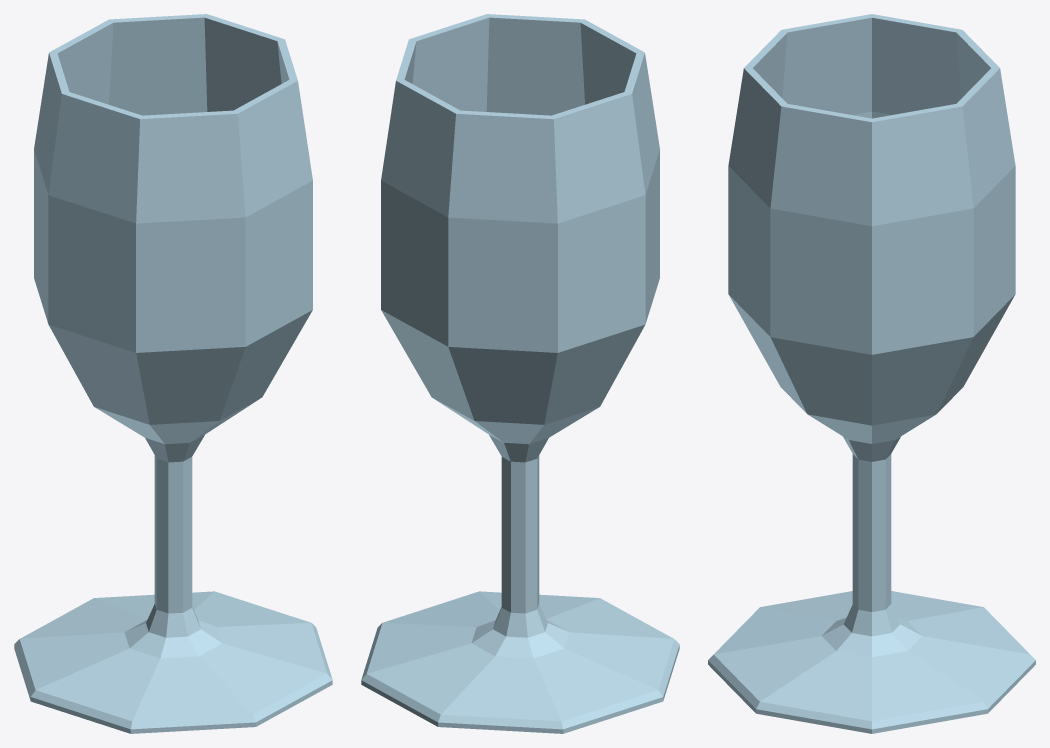
File: WineGlass.fbx
3 renders of one model, left to right at view 1: azimuth 30°, elevation 25°; view 2: azimuth 150°, elevation 25°; view 3: azimuth 270°, elevation 25°, orthographic.
Parts seen in each view (by area): view 1: WineGlass; view 2: WineGlass; view 3: WineGlass.
Boxes of the visible parts, <box> form: WineGlass: <box>14,14,332,733</box>; WineGlass: <box>361,14,679,733</box>; WineGlass: <box>708,14,1035,733</box>.
Bounding box in the file's own units: 0.0921 × 0.1849 × 0.0921.
Materials: 1 (1 with a texture image).
